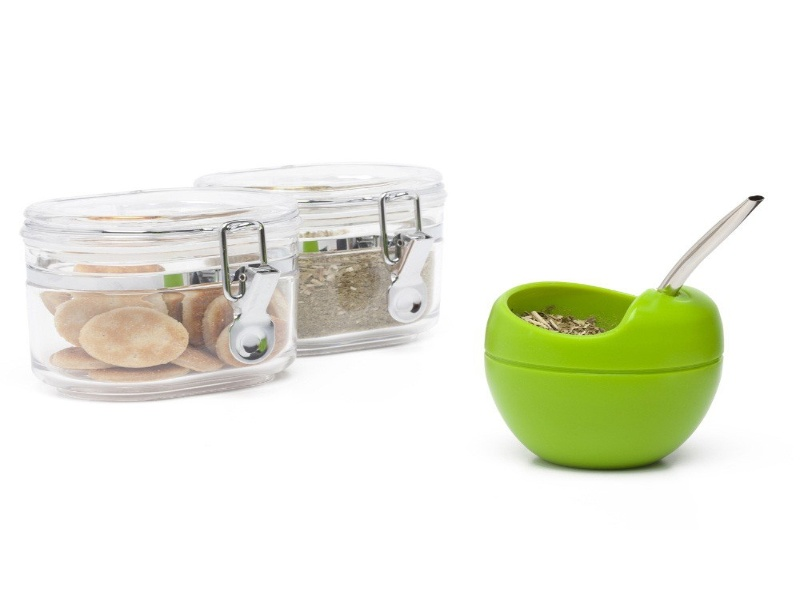guampa: (468, 144, 766, 483)
